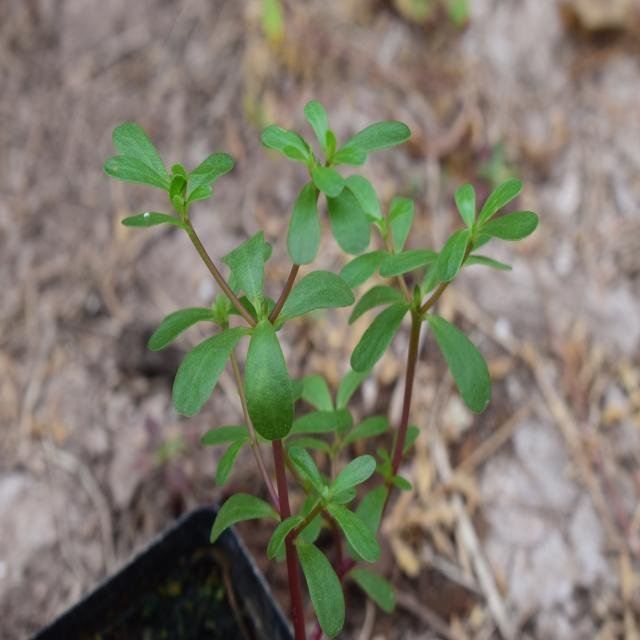purslane: (115, 95, 538, 580)
